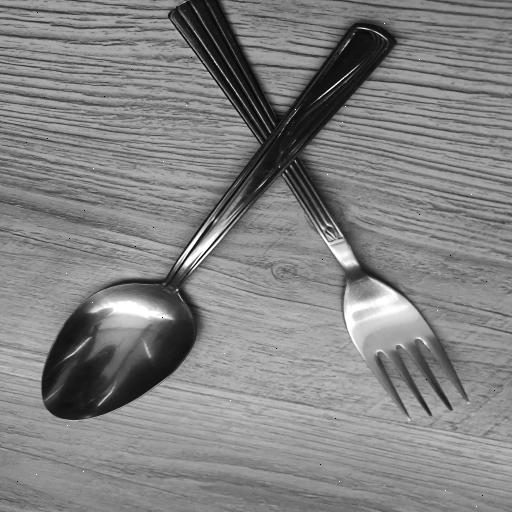fork: (169, 2, 467, 424)
spoon: (30, 25, 397, 431)
